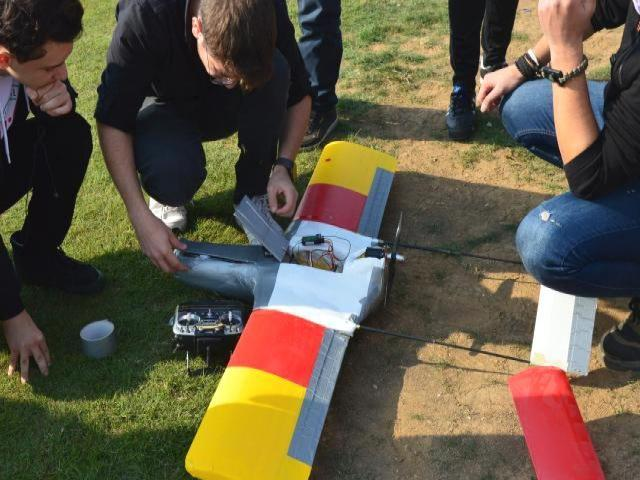iha: (165, 139, 606, 480)
